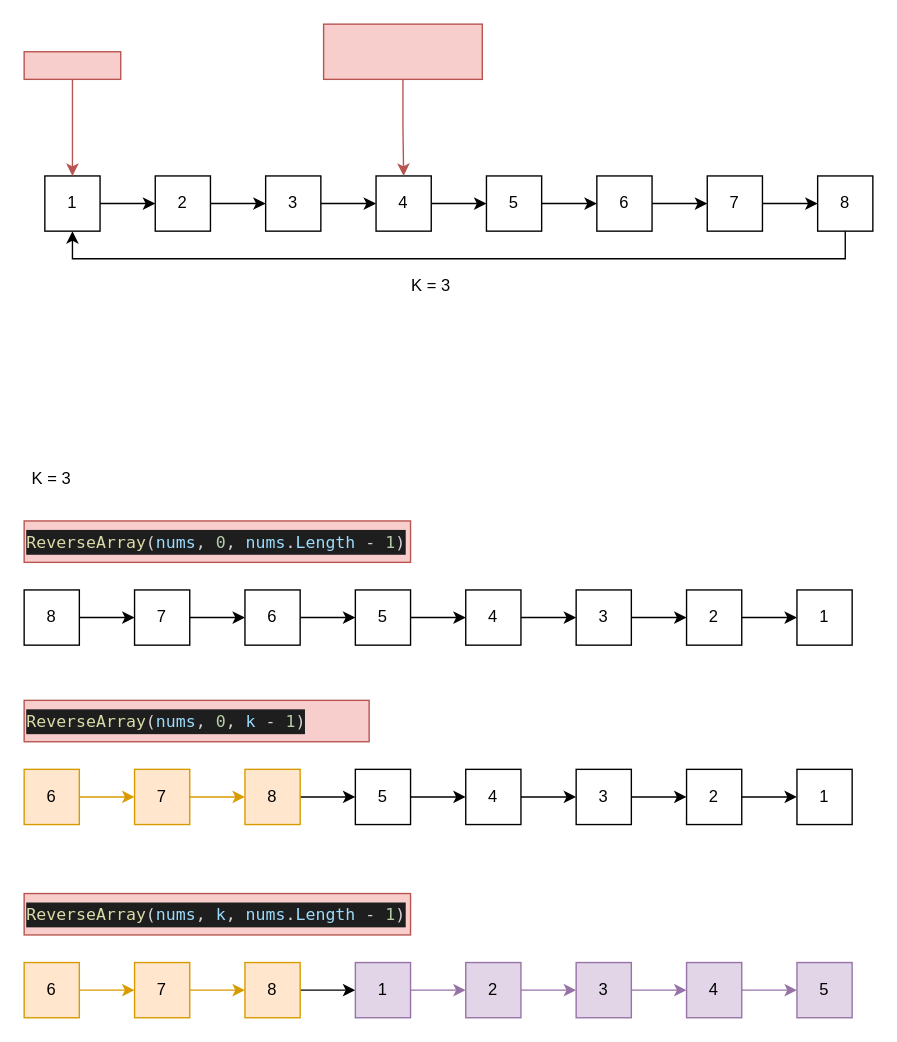
The diagram is 897 pixels wide and 1042 high, and some of its shapes have lost their labels. Each missing label, with the centre of its shape:
newPos: (index + k) % n = 3: (402,51)
old index: 0: (72,64)
